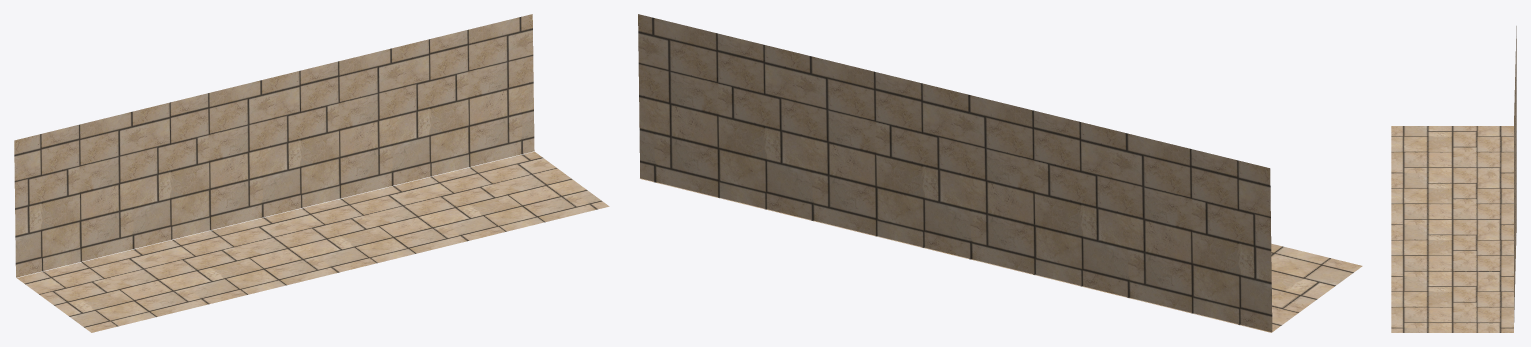
File: sandstone_wall.glb
3 views of the same model, side by side, from view 1: azimuth 30°, elevation 25°; view 2: azimuth 150°, elevation 25°; view 3: azimuth 270°, elevation 25° (orthographic). The views are drawn at different scales.
Parts seen in each view (by area): view 1: Object_2; view 2: Object_2; view 3: Object_2.
Boxes of the visible parts, x1,y1,x2,y2 form: Object_2: (14, 14, 609, 332); Object_2: (638, 14, 1362, 332); Object_2: (1391, 26, 1516, 332).
Bounding box in the file's own units: 26.98 × 6.78 × 6.91.
1 material, 1 textured.
